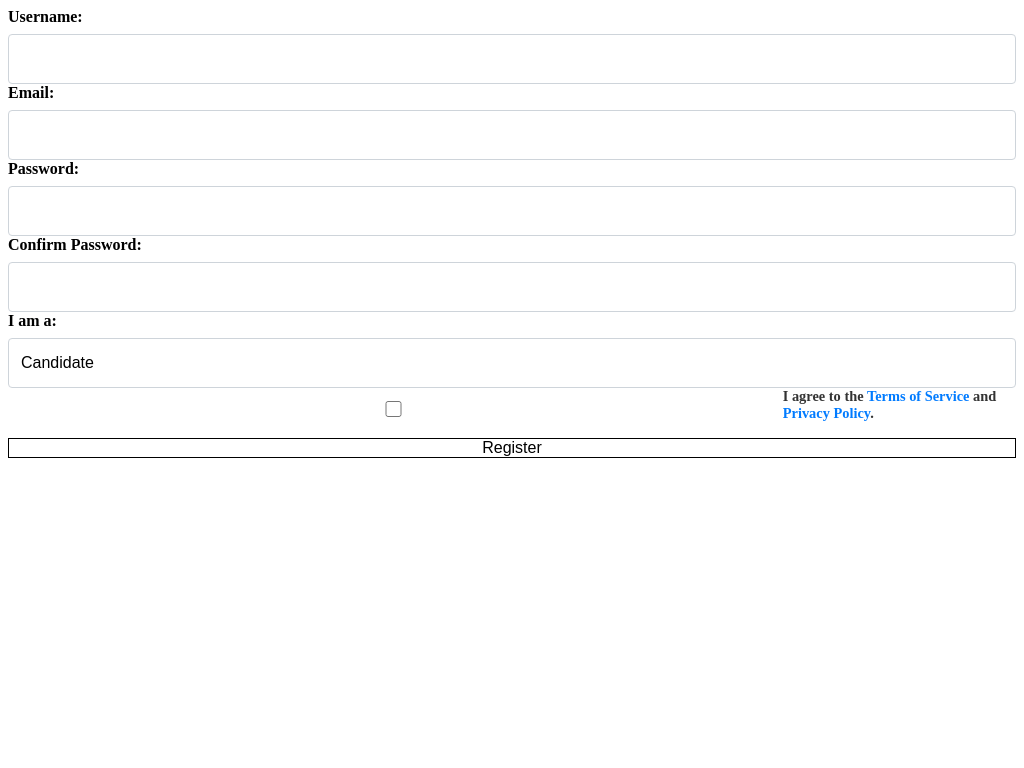
Test case: RegistrationForm Component › should display API error message on failed registration
The image size is (1024, 768).
Type "testuser" into the field labelled "Username:" at [512, 59], box [8,34,1016,84]
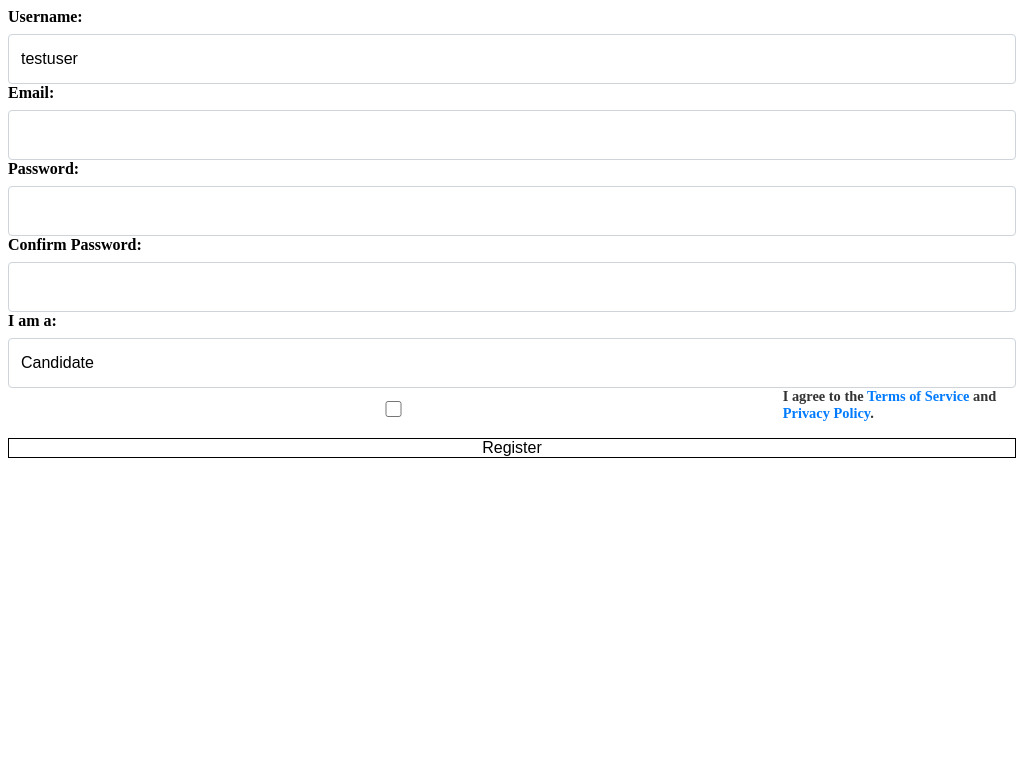
Type "test@example.com" into the field labelled "Email:" at [512, 135], box [8,110,1016,160]
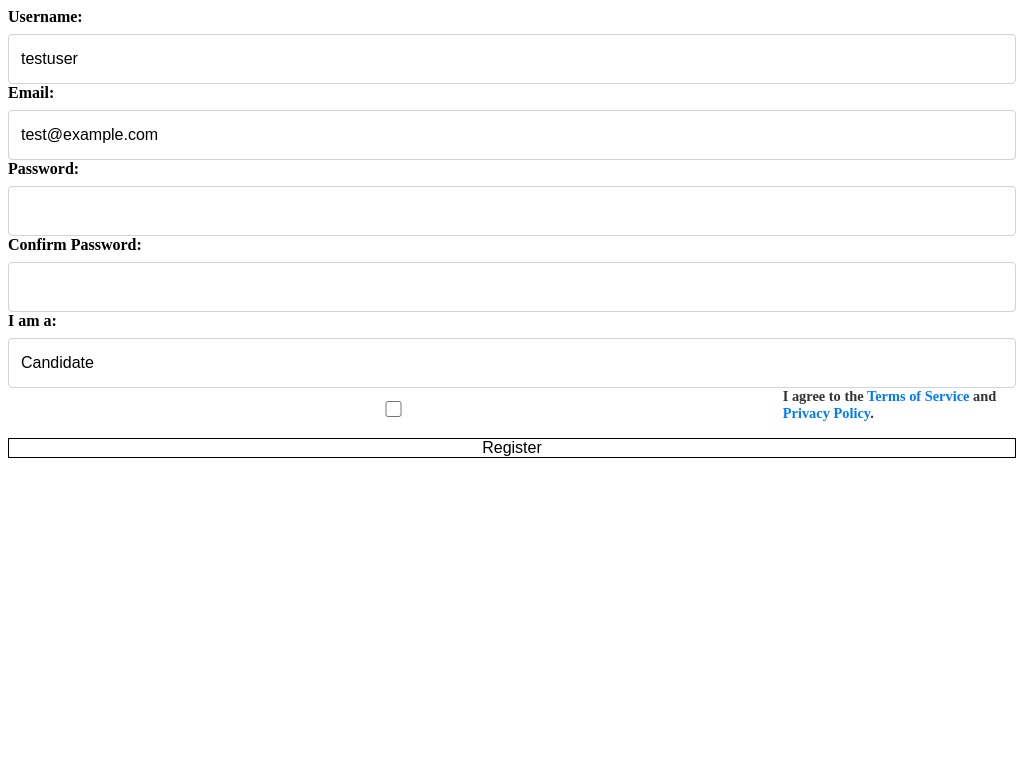
Type "ValidPass123!" into the password field labelled "Password:" at [512, 211], box [8,186,1016,236]
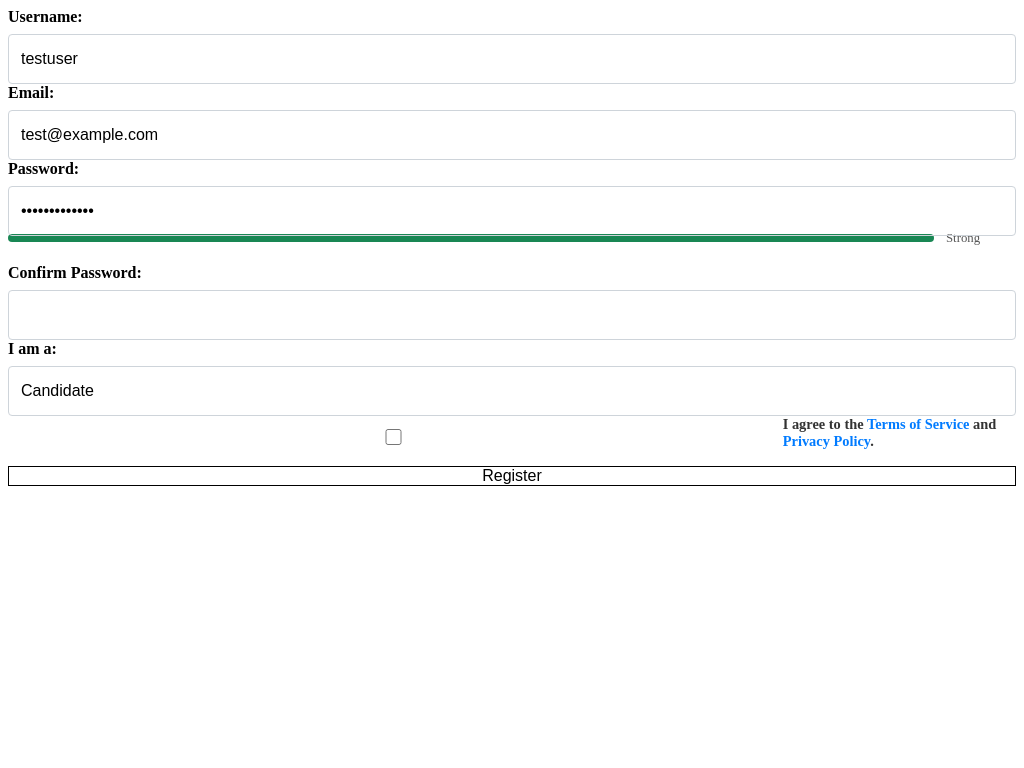
Type "ValidPass123!" into the password field labelled "Confirm Password:" at [512, 315], box [8,290,1016,340]
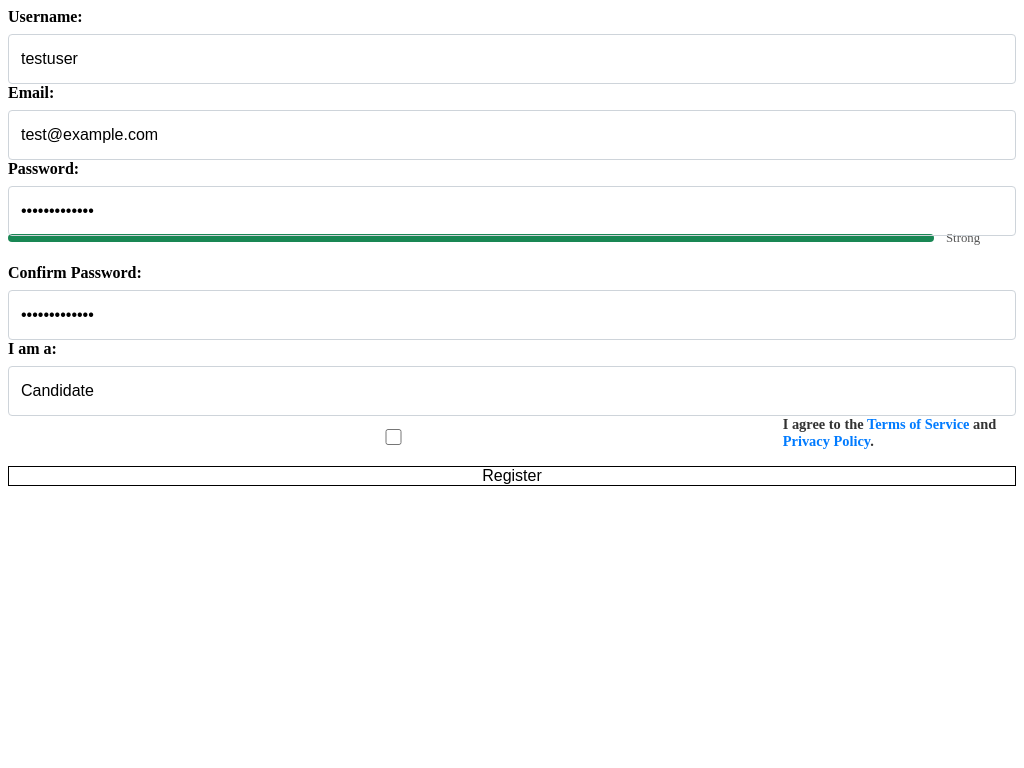
Select "Candidate" in the dropdown labelled "I am a:" at [512, 391], box [8,366,1016,416]
Click the checkbox labelled "I agree to the Terms of Service and Privacy Policy ." at [393, 437], box [12,429,775,445]
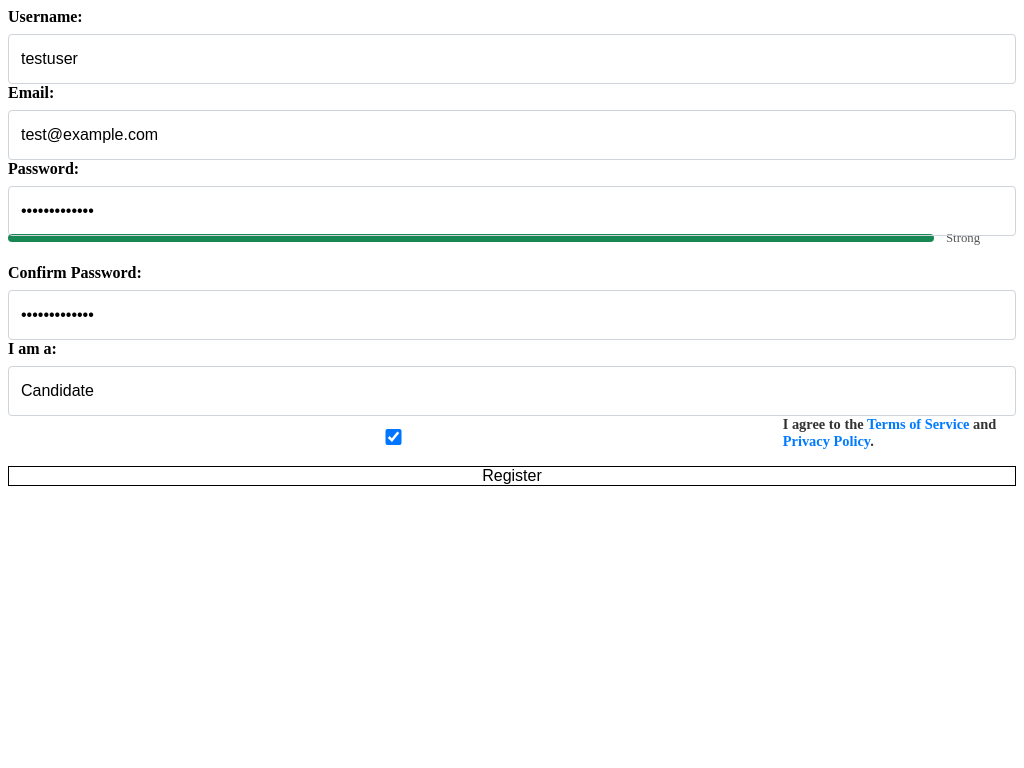
Click the button "Register" at [512, 476], box [8,466,1016,486]
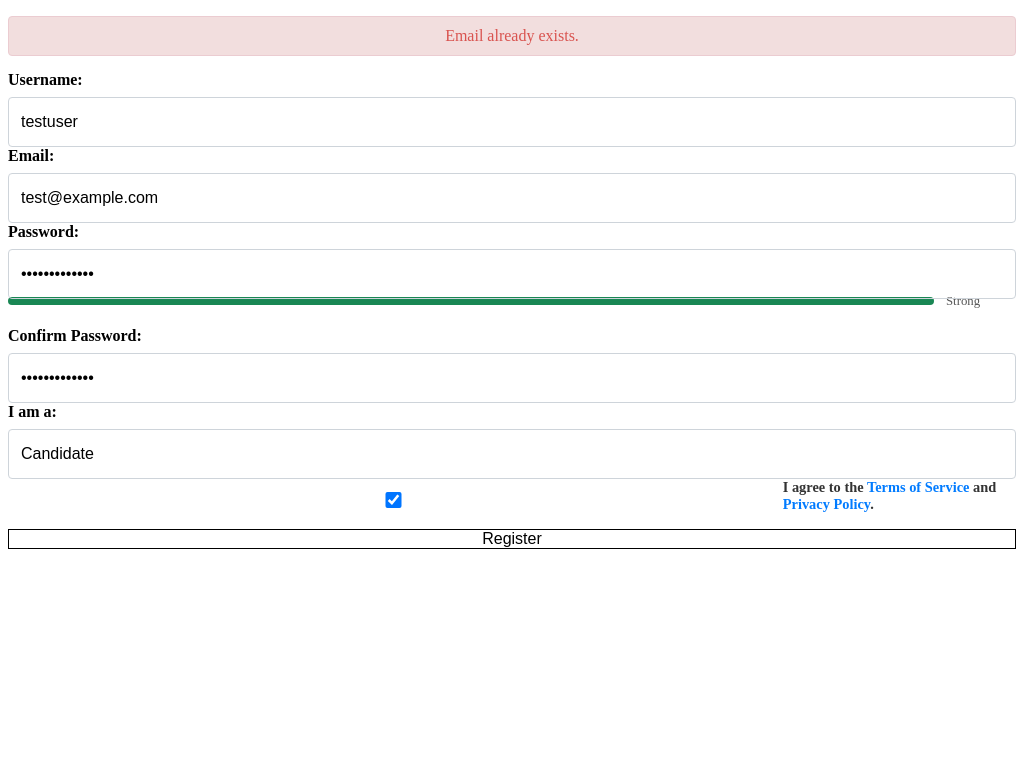
Expected: the message reads "Email already exists.", [445,27,579,44]
